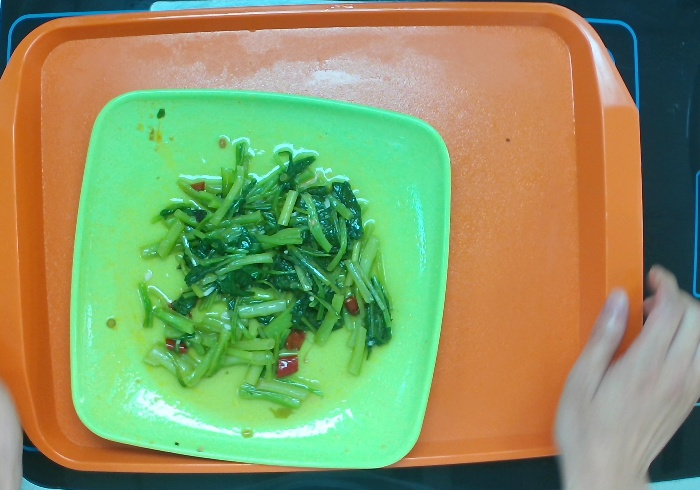ZNLD-Lv_Fang_Pan: (66, 86, 453, 471)
